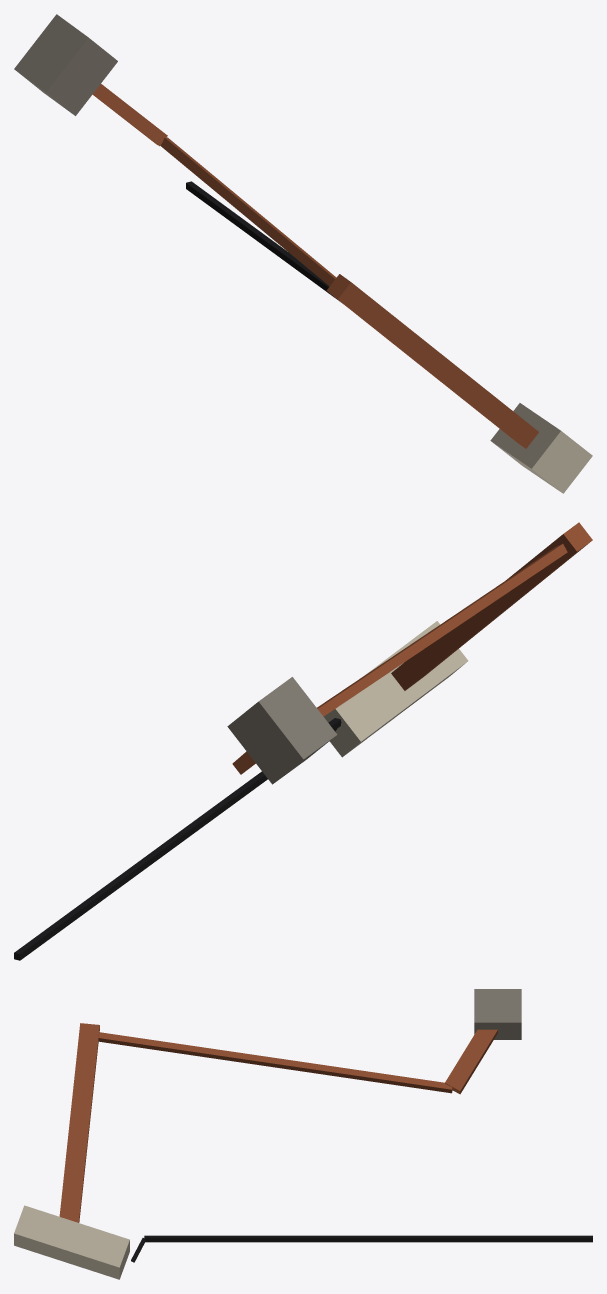
3 renders of one model, top to bottom at view 1: azimuth 30°, elevation 25°; view 2: azimuth 150°, elevation 25°; view 3: azimuth 270°, elevation 25°, orthographic. The views are drawn at different scales.
Parts seen in each view (by area): view 1: t00_g29_p1; view 2: t00_g29_p1; view 3: t00_g29_p1.
Part boxes in pixels (left/top/right/bottom): t00_g29_p1: left=14, top=14, right=592, bottom=493; t00_g29_p1: left=14, top=522, right=592, bottom=960; t00_g29_p1: left=14, top=989, right=592, bottom=1279.
Size of the model in its own units: 11.44 by 12.34 by 29.28.
